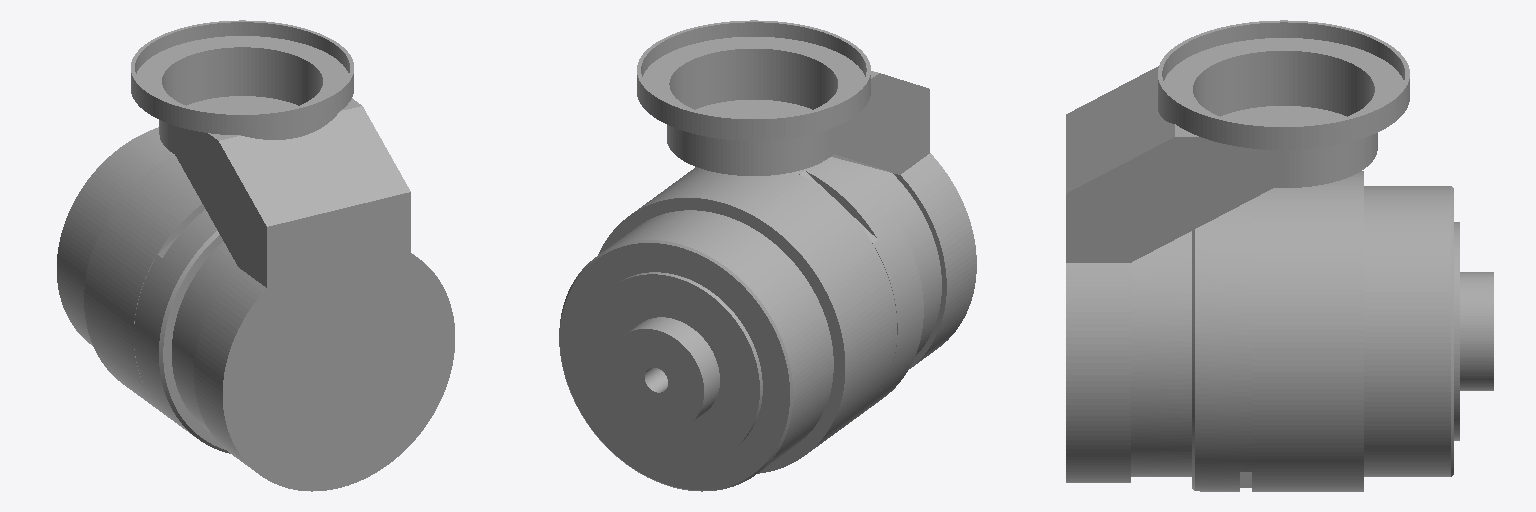
robot.urdf — lwa4p:
<?xml version="1.0"?>
<robot  name="lwa4p">

  <link name="world" />

		<!-- L0 -->
		<joint name="L0_joint" type="fixed" >
			<origin  rpy="0 0 0" xyz="0 0 0" />
			<parent link="world" />
			<child link="L0_link" />
		</joint>

		<link name="L0_link">
			<inertial>
				<origin xyz="0 0 0" rpy="0 0 0" />
				<mass value="0.29364"/>
				<inertia ixx="0.01" ixy="0" ixz="0" iyy="0.01" iyz="0" izz="0.01" />
			</inertial>
			
			<visual>
				<origin xyz="0 0 0" rpy="0 0 0" />
				<geometry>
					<mesh filename="../meshes/arm_0_link.stl" />
				</geometry>
				<material name="Schunk_LightGrey"> 
					<color rgba="0.7 0.7 0.7 1.0"/>  
				</material>
			</visual>
			
			<collision>
				<origin xyz="0 0 0" rpy="0 0 0" />
				<geometry>
					<mesh filename="../meshes/arm_0_link.stl" />
				</geometry>
			</collision>
		</link>

		<!-- joint between arm_0_link and arm_1_link -->
		<joint name="L1_joint" type="revolute">
			<origin xyz="0 0 0.11" rpy="0 0 0"/>
			<parent link="L0_link"/>
			<child link="L1_link"/>
			<axis xyz="0 0 1"/>
			<dynamics damping="10" />
			<limit effort="370" velocity="2.0" lower="-6.2831853" upper="6.2831853"/>
		</joint>

		<!--  Link 1-->
		<link name="L1_link">
			<inertial>
				<origin xyz="0 0 0" rpy="0 0 0" />
				<mass value="0.29364"/>
				<inertia ixx="0.01" ixy="0" ixz="0" iyy="0.01" iyz="0" izz="0.01" />
			</inertial>
			
			<visual>
				<origin xyz="0 0 0" rpy="0 0 0" />
				<geometry>
					<mesh filename="../meshes/arm_1_link.stl" />
				</geometry>
				<material name="Schunk_Blue">
					<color rgba="0.0 0.0 0.8 1.0"/>
				</material>
			</visual>
			
			<collision>
				<origin xyz="0 0 0" rpy="0 0 0" />
				<geometry>
					<mesh filename="../meshes/arm_1_link.stl" />
				</geometry>
			</collision>
		</link>

		<!--  Joint 2-->
		<joint name="L2_joint" type="revolute">
			<origin xyz="0 0 0" rpy="1.5708 0 0"/>
			<parent link="L1_link"/>
			<child link="L2_link"/>
			<axis xyz="0 0 1"/>
			<dynamics damping="10" />
			<limit effort="370" velocity="2.0" lower="-2.0943951" upper="2.0943951"/>
		</joint>

		<!--  Link 2-->
		<link name="L2_link">
			<inertial>
				<origin xyz="0 0 0" rpy="0 0 0"/>
				<mass value="1.68311"/>
				<inertia ixx="0.03" ixy="0" ixz="0" iyy="0.03" iyz="0" izz="0.03" />
			</inertial>
			
			<visual>
				<origin xyz="0 0 0" rpy="0 0 0" />
				<geometry>
					<mesh filename="../meshes/arm_2_link.stl" />
				</geometry>
				<material name="Schunk_LightGrey" />
			</visual>
			
			<collision>
				<origin xyz="0 0 0" rpy="0 0 0" />
				<geometry>
					<mesh filename="../meshes/arm_2_link.stl" />
				</geometry>
			</collision>
		</link>

		<!--  Joint 3 -->
		<joint name="L3_joint" type="revolute">
			<origin xyz="0 0.350 0" rpy="0 3.14159 0"/>
			<parent link="L2_link"/>
			<child link="L3_link"/>
			<axis xyz="0 0 1"/>
			<dynamics damping="5" />
			<limit effort="176" velocity="2.0" lower="-6.2831853" upper="6.2831853"/>
		</joint>

		<!--  Link 3-->
		<link name="L3_link">
			<inertial>
				<origin xyz="0 0 0" rpy="0 0 0"/>
				<mass value="2.1"/>
				<inertia ixx="0.03" ixy="0" ixz="0" iyy="0.03" iyz="0" izz="0.03" />
			</inertial>
			
			<visual>
				<origin xyz="0 0 0" rpy="0 0 0" />
				<geometry>
					<mesh filename="../meshes/arm_3_link.stl" />
				</geometry>
				<material name="Schunk_Blue" />
			</visual>
			
			<collision>
				<origin xyz="0 0 0" rpy="0 0 0" />
				<geometry>
					<mesh filename="../meshes/arm_3_link.stl" />
				</geometry>
			</collision>
		</link>	

		<!--  Joint 4-->
		<joint name="L4_joint" type="revolute">
			<origin xyz="0 0 0" rpy="-1.5708 3.14159 0" />
			<parent link="L3_link"/>
			<child link="L4_link"/>
			<axis xyz="0 0 1" />
			<dynamics damping="5" />
			<limit effort="176" velocity="2.0" lower="-2.0943951" upper="2.0943951"/>
		</joint>

		<!--  Link 4-->
		<link name="L4_link">
			<inertial>
				<origin xyz="0 0 0" rpy="0 0 0"/>
				<mass value="1.68311"/>
				<inertia ixx="0.03" ixy="0" ixz="0" iyy="0.03" iyz="0" izz="0.03" />
			</inertial>
			
			<visual>
				<origin xyz="0 0 0" rpy="0 0 0" />
				<geometry>
					<mesh filename="../meshes/arm_4_link.stl" />
				</geometry>
				<material name="Schunk_LightGrey" />
			</visual>
			
			<collision>
				<origin xyz="0 0 0" rpy="0 0 0" />
				<geometry>
					<mesh filename="../meshes/arm_4_link.stl" />
				</geometry>
			</collision>
		</link>

		<!--  Joint 5 -->
		<joint name="L5_joint" type="revolute">
			<origin xyz="0 0.005263 0.365" rpy="1.5708 0 3.14159" />
			<parent link="L4_link"/>
			<child link="L5_link"/>
			<axis xyz="0 0 1" />
			<dynamics damping="5" />
			<limit effort="41.6" velocity="2.0" lower="-6.2831853" upper="6.2831853" />
		</joint>

		<!--  Link 5-->
		<link name="L5_link">
			<inertial>
				<origin xyz="0 0 0" rpy="0 0 0"/>
				<mass value="0.807"/>
				<inertia ixx="0.03" ixy="0" ixz="0" iyy="0.03" iyz="0" izz="0.03" />
			</inertial>
			
			<visual>
				<origin xyz="0 0 0" rpy="0 0 0" />
				<geometry>
					<mesh filename="../meshes/arm_5_link.stl" />
				</geometry>
				<material name="Schunk_Blue" />
			</visual>
			
			<collision>
				<origin xyz="0 0 0" rpy="0 0 0" />
				<geometry>
					<mesh filename="../meshes/arm_5_link.stl" />
				</geometry>
			</collision>
		</link>

		<!--  Joint 6-->
		<joint name="L6_joint" type="revolute">
			<origin xyz="0 0 0" rpy="-1.5708 0 0" />
			<parent link="L5_link"/>
			<child link="L6_link"/>
			<axis xyz="0 0 1" />
			<dynamics damping="5" />
			<limit effort="20.1" velocity="2.0" lower="-2.0943951" upper="2.0943951" />
		</joint>

		<!--  Link 6-->
		<link name="L6_link">
			<inertial>
				<origin xyz="0 0 0" rpy="0 0 0"/>
				<mass value="0.819"/>
				<inertia ixx="0.01" ixy="0" ixz="0" iyy="0.01" iyz="0" izz="0.01" />
			</inertial>
			
			<visual>
				<origin xyz="0 0 0" rpy="0 0 0" />
				<geometry>
					<mesh filename="../meshes/arm_6_link.stl" />
				</geometry>
				<material name="Schunk_LightGrey" />
			</visual>
			
			<collision>
				<origin xyz="0 0 0" rpy="0 0 0" />
				<geometry>
					<mesh filename="../meshes/arm_6_link.stl" />
				</geometry>
			</collision>
		</link>



</robot>

--- Render facts (derived) ---
The picture shows the robot from 3 angles, left to right: view 1: azimuth 30°, elevation 25°; view 2: azimuth 150°, elevation 25°; view 3: azimuth 270°, elevation 25°; orthographic projection.
Model lwa4p with 8 links and 7 joints (6 revolute, 1 fixed), rooted at world, posed all joints at 0.
Visible links, largest first — view 1: L2_link; view 2: L2_link; view 3: L2_link.
Link boxes in pixels (<box>): L2_link: <box>57,20,454,491</box>; L2_link: <box>559,20,976,491</box>; L2_link: <box>1066,20,1493,491</box>.
Size in the robot's own frame: 0.132 by 0.1762 by 0.183 metres.
1 mesh visuals loaded from 7 distinct referenced files (1 binary STL); not drawn: 6 (reference not matched to a file when rendering).